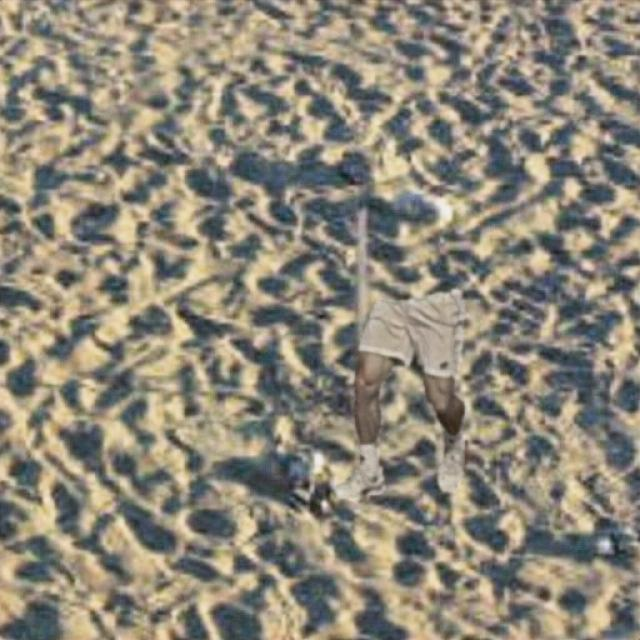Person in Rubble: (337, 285, 468, 503)
